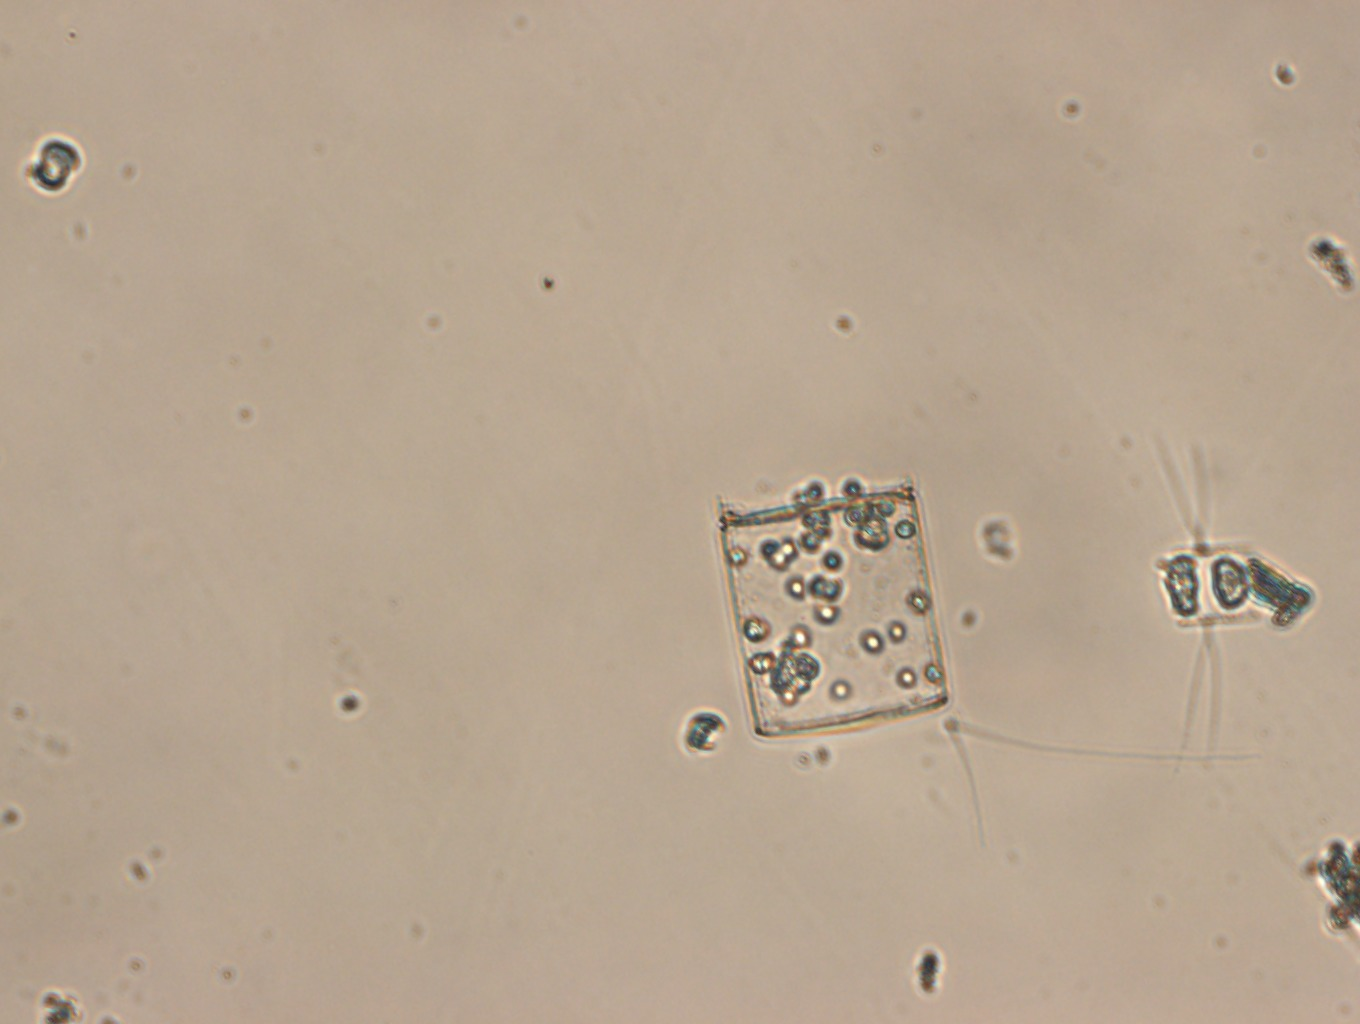chaetoceros: (1155, 435, 1260, 774)
guinardia flaccida: (718, 490, 951, 737)
